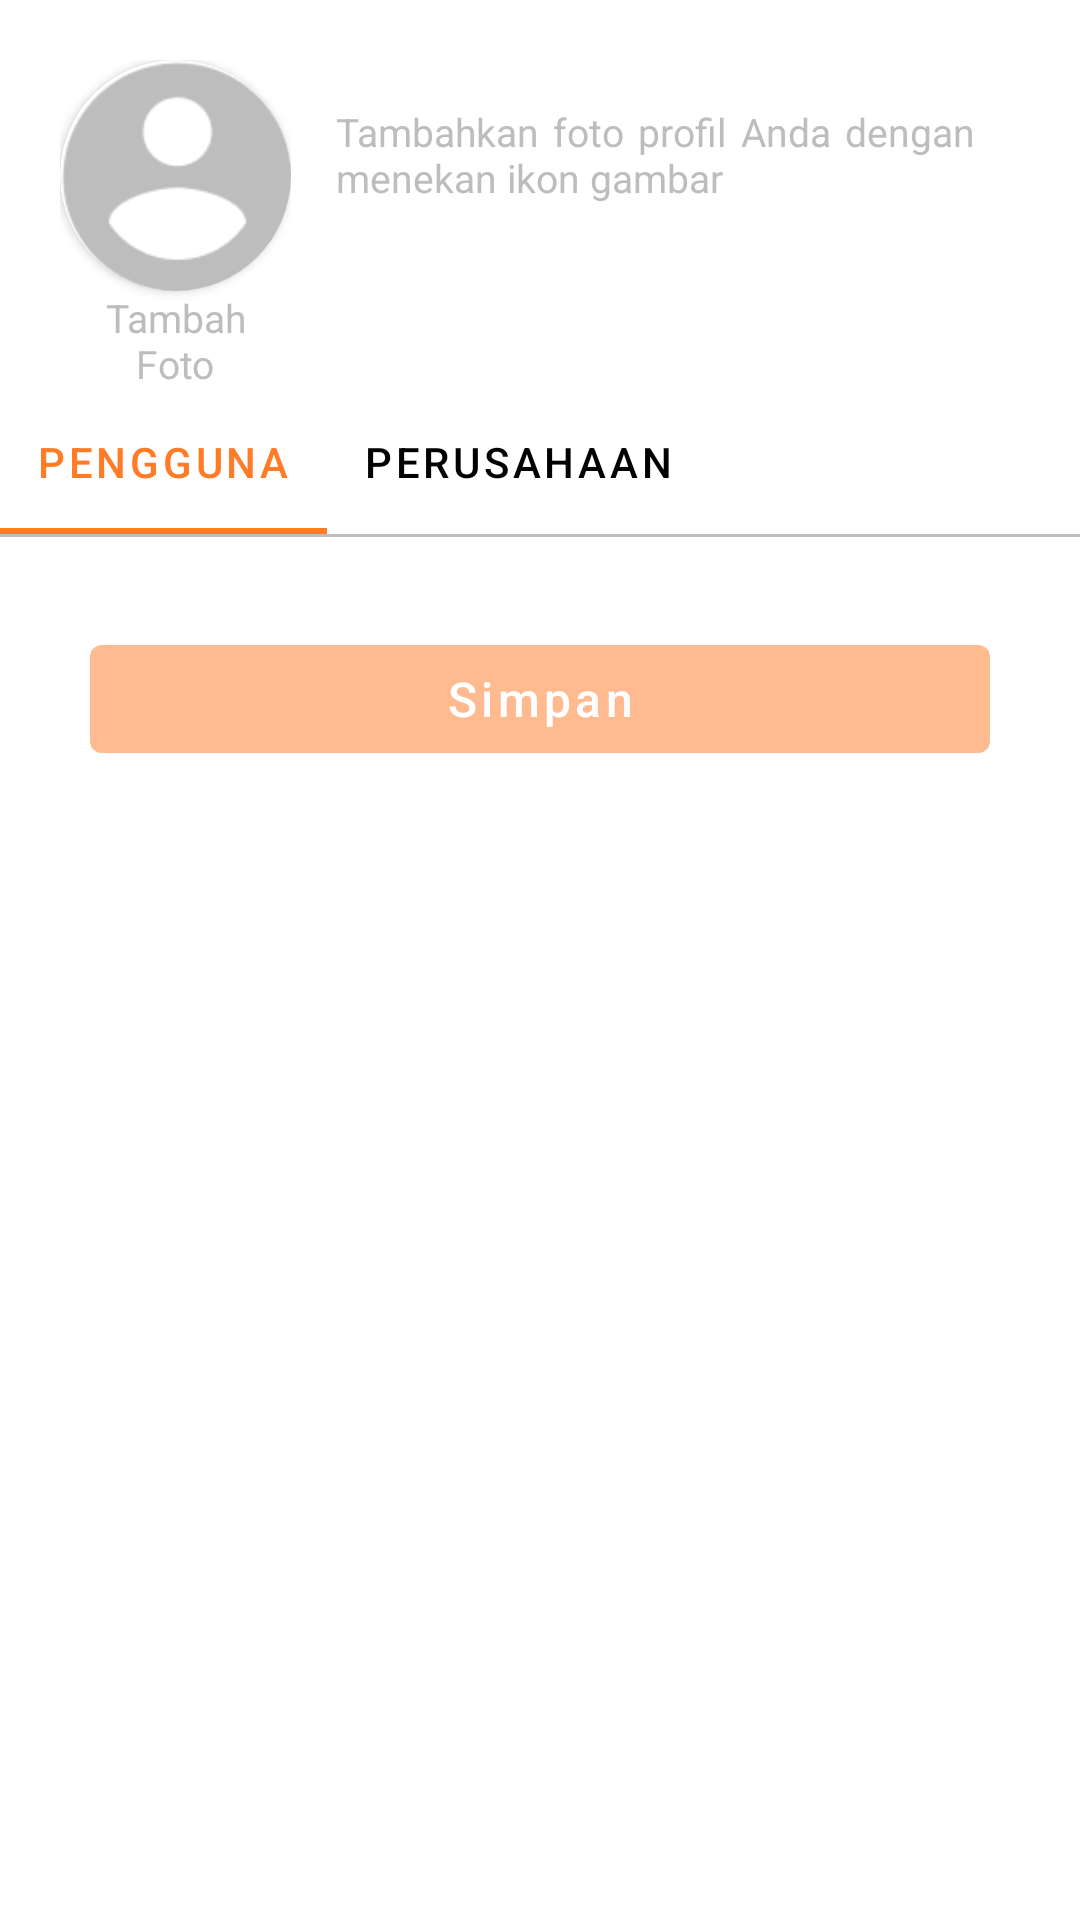

Locate icon controls on the screen. Image size 1080x1920, boxes as (x1, y1, x2, y2).
profile: (60, 63, 291, 291)
